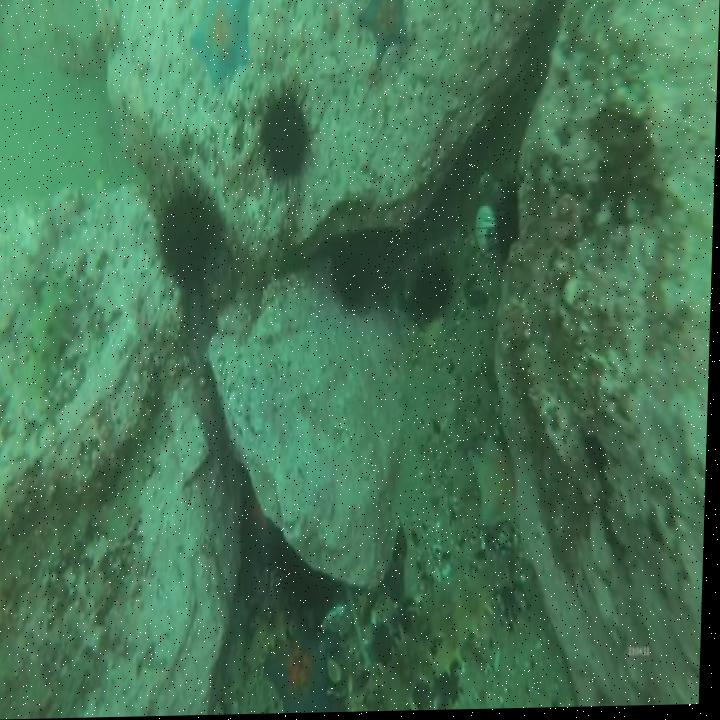echinus: (163, 193, 218, 285), (261, 100, 311, 178), (331, 235, 381, 309), (415, 262, 455, 316), (498, 197, 521, 258)
holothurian: (376, 573, 461, 712), (441, 551, 523, 678), (27, 281, 80, 394)
scallop: (477, 205, 498, 260)
starfish: (273, 618, 342, 715), (188, 0, 249, 84), (476, 437, 523, 526), (357, 0, 410, 61)
